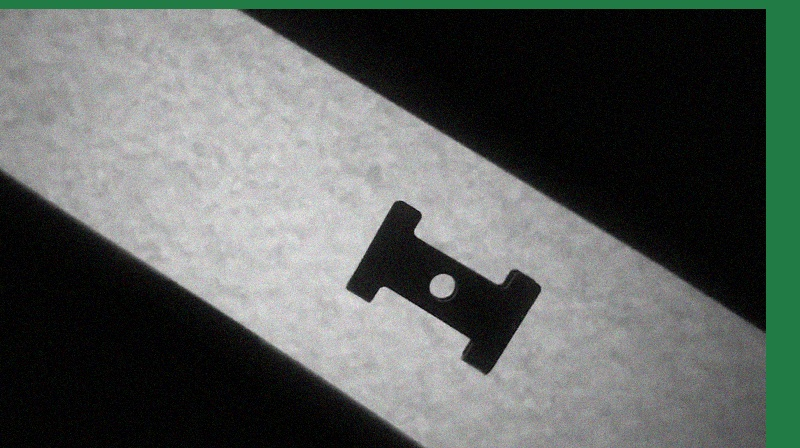O002: (339, 196, 542, 375)
